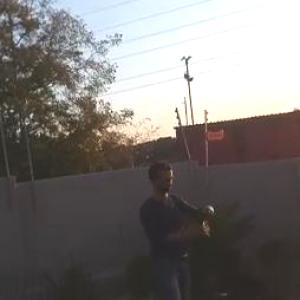follow: (132, 152, 232, 299)
